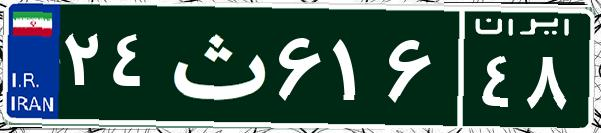1: (330, 28, 385, 110)
2: (57, 26, 110, 107)
4: (475, 38, 525, 113), (110, 28, 158, 105)
6: (385, 28, 445, 110), (273, 28, 330, 110)
8: (525, 38, 570, 115)
ث: (158, 15, 273, 115)
